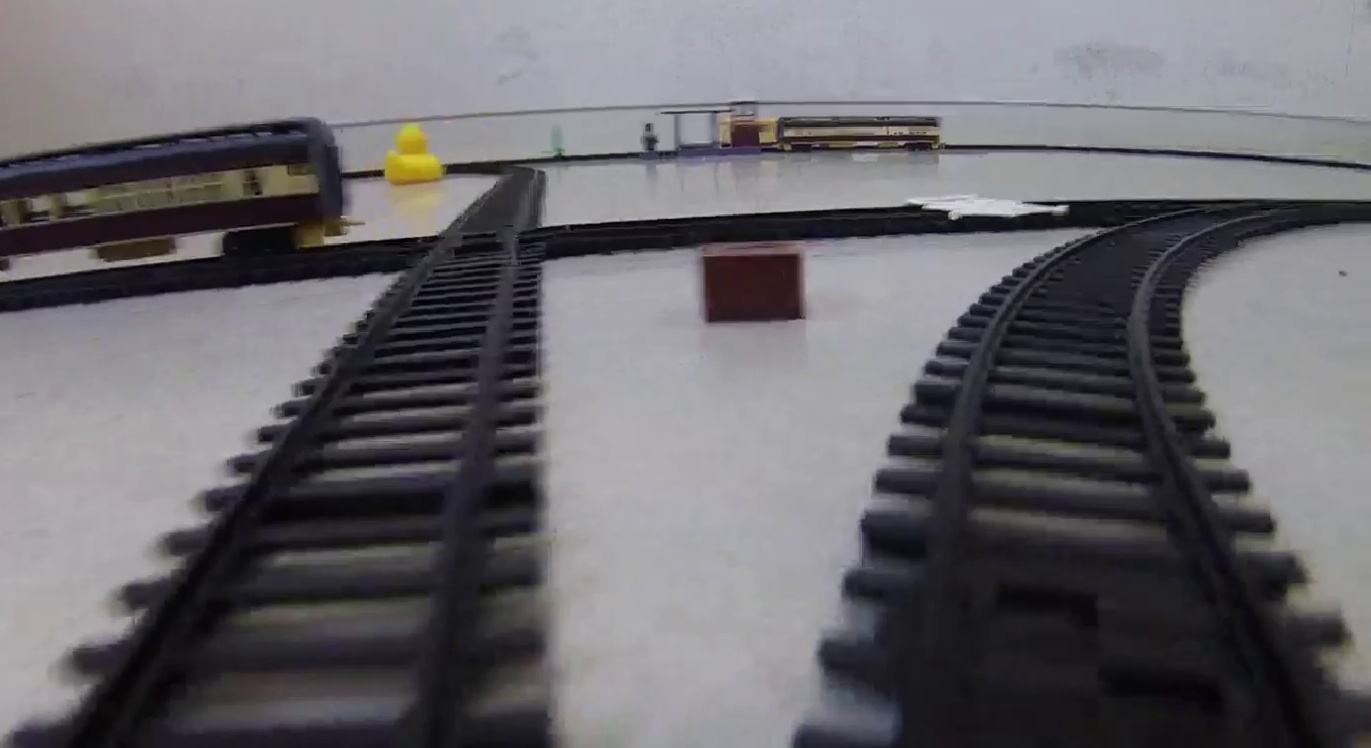box: (703, 247, 804, 314)
web: (907, 193, 1068, 222)
